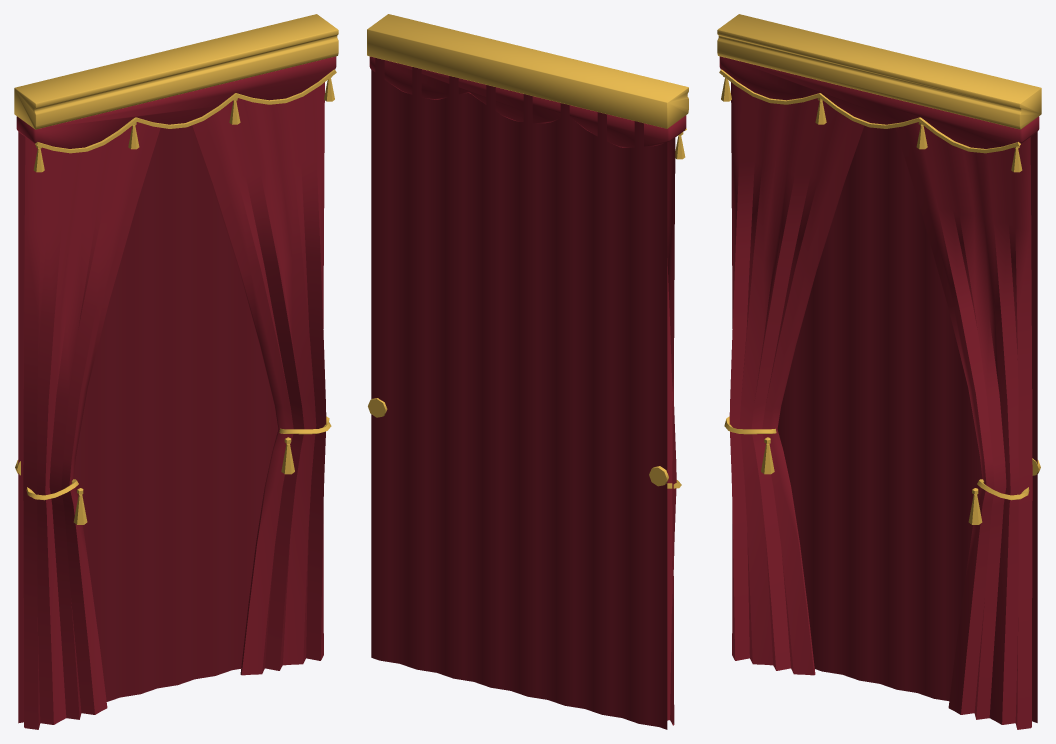
The model's file is Lobby_VelvetCurtain.fbx.
3 views of the same model, side by side, from view 1: azimuth 30°, elevation 25°; view 2: azimuth 150°, elevation 25°; view 3: azimuth 330°, elevation 25° (orthographic).
Parts seen in each view (by area): view 1: Velvet, Backdrop, Gold; view 2: Backdrop, Gold, Velvet; view 3: Velvet, Backdrop, Gold.
Part boxes in pixels (left/top/right/bottom): Velvet: left=16, top=56, right=336, bottom=729; Backdrop: left=18, top=125, right=278, bottom=723; Gold: left=14, top=14, right=338, bottom=524; Backdrop: left=371, top=58, right=667, bottom=729; Gold: left=367, top=14, right=688, bottom=488; Velvet: left=369, top=56, right=686, bottom=725; Velvet: left=719, top=56, right=1039, bottom=729; Backdrop: left=777, top=125, right=1037, bottom=722; Gold: left=717, top=14, right=1041, bottom=524.
Size of the model in its own units: 800 by 1600 by 102.
